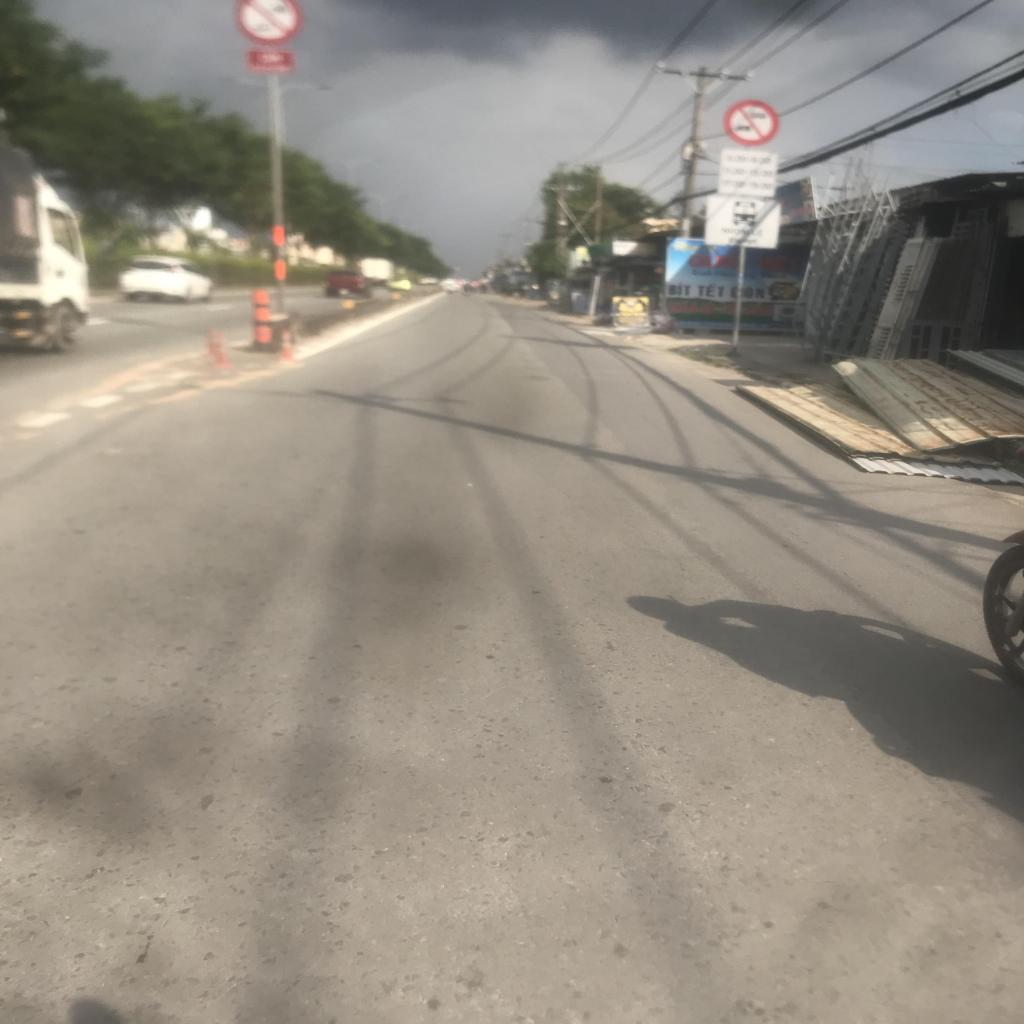cam_o_to_tai_va_xe_khach: (724, 100, 780, 146)
cam_xe_2_banh_va_xe_3_banh_co_dong_co: (234, 0, 303, 44)
khac: (702, 194, 780, 250), (717, 146, 778, 198)
